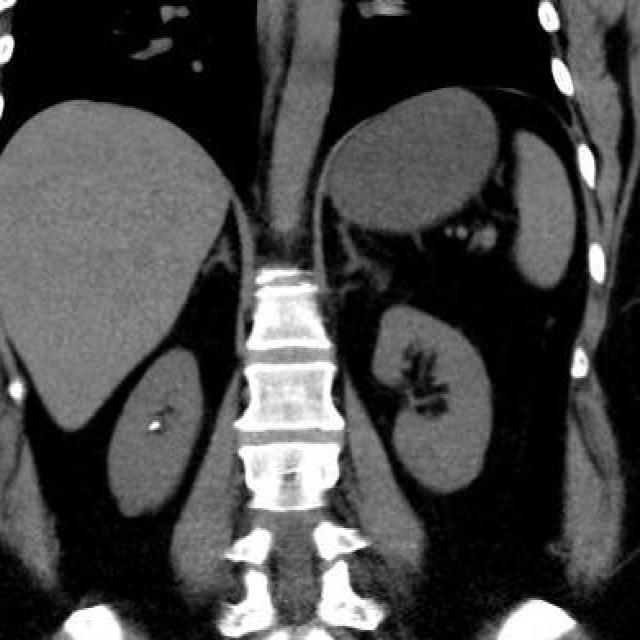Tas_Var: (145, 416, 163, 436)
